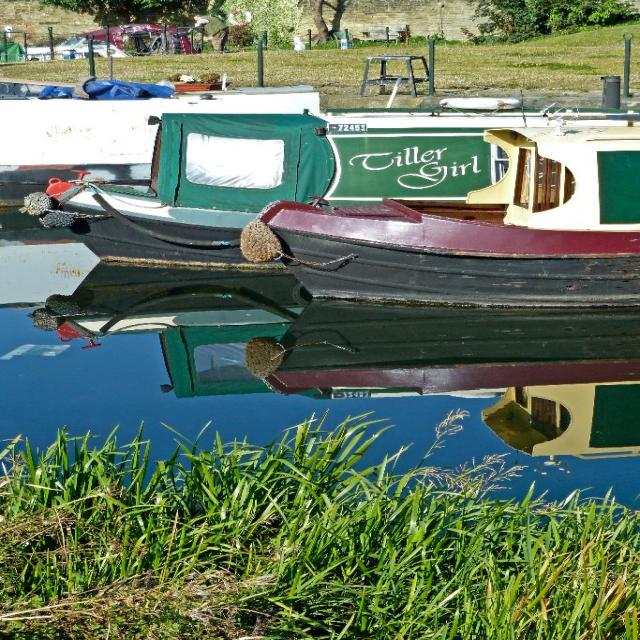Boat: (32, 36, 636, 272), (241, 99, 639, 302)
